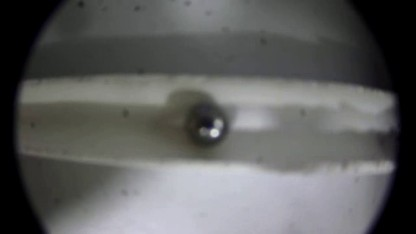gangzhu: (183, 104, 231, 144)
